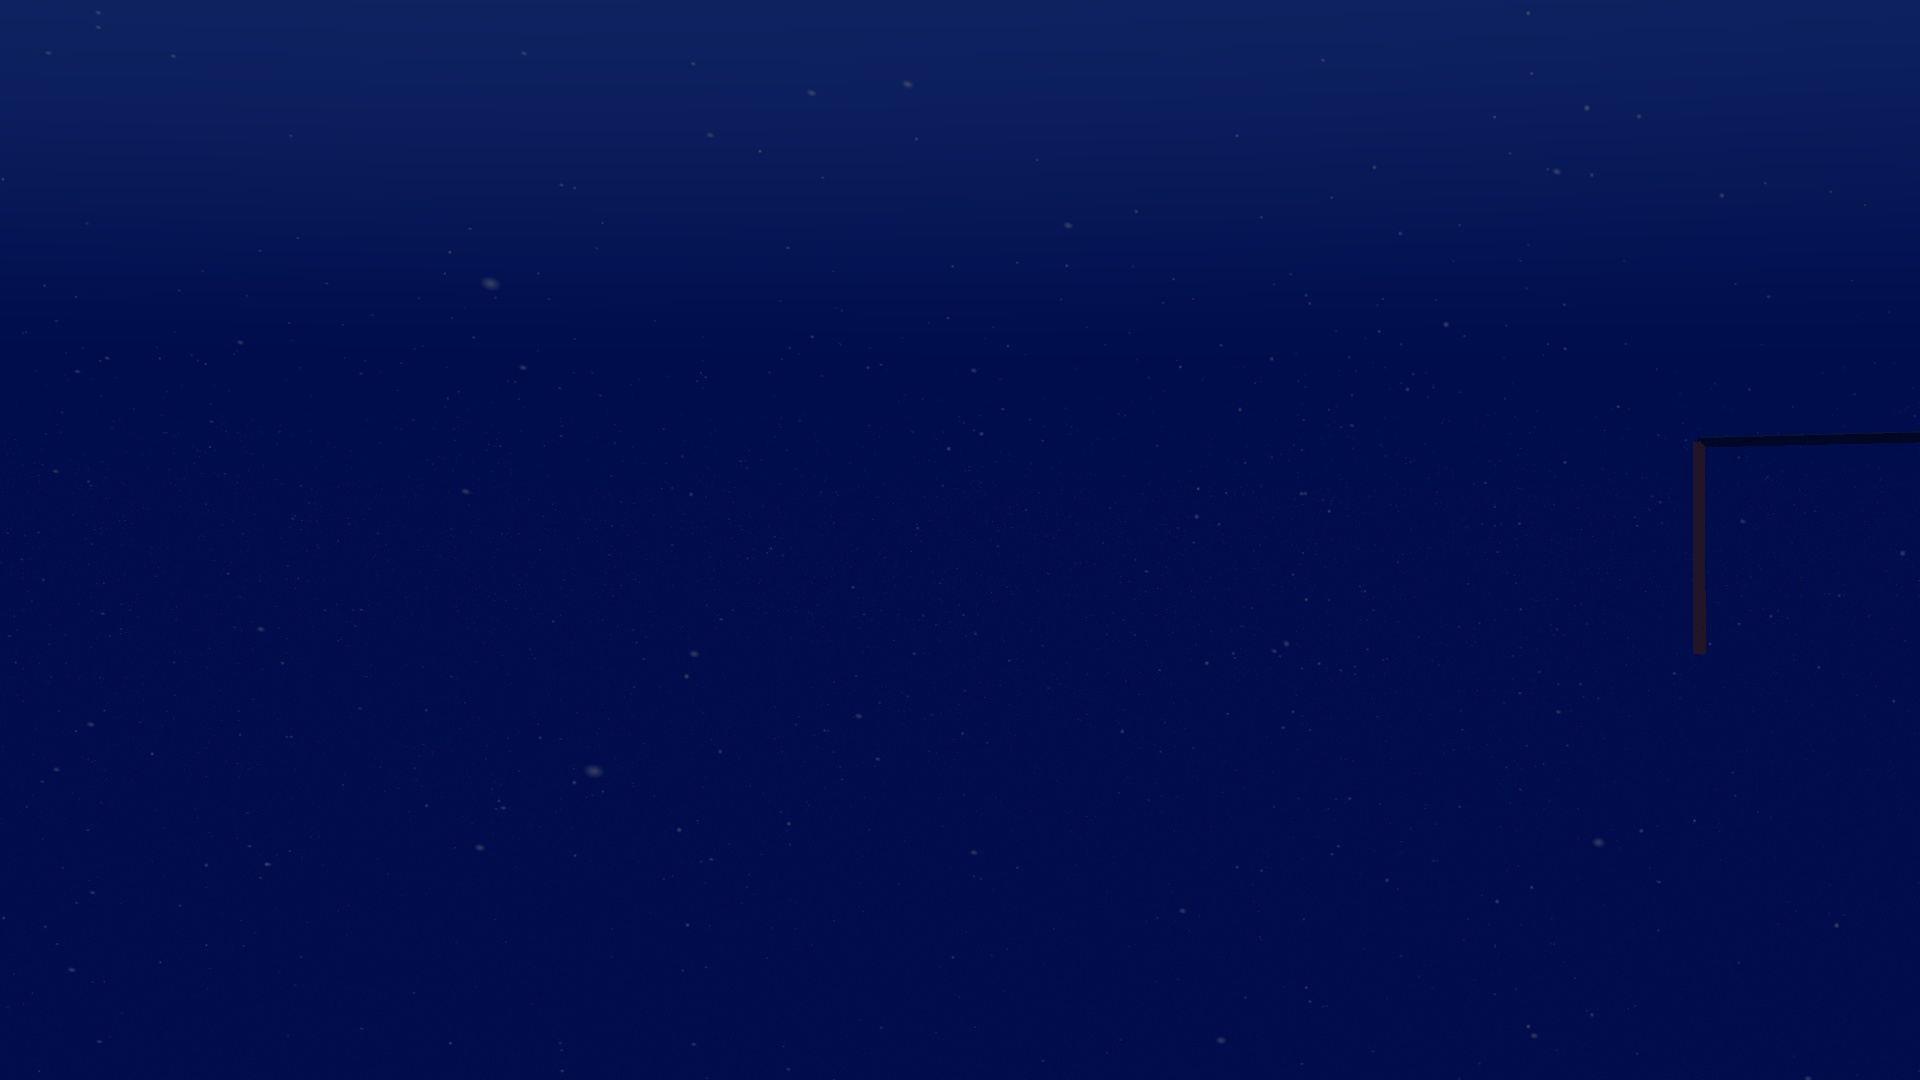Gate: (1684, 427, 1920, 661)
